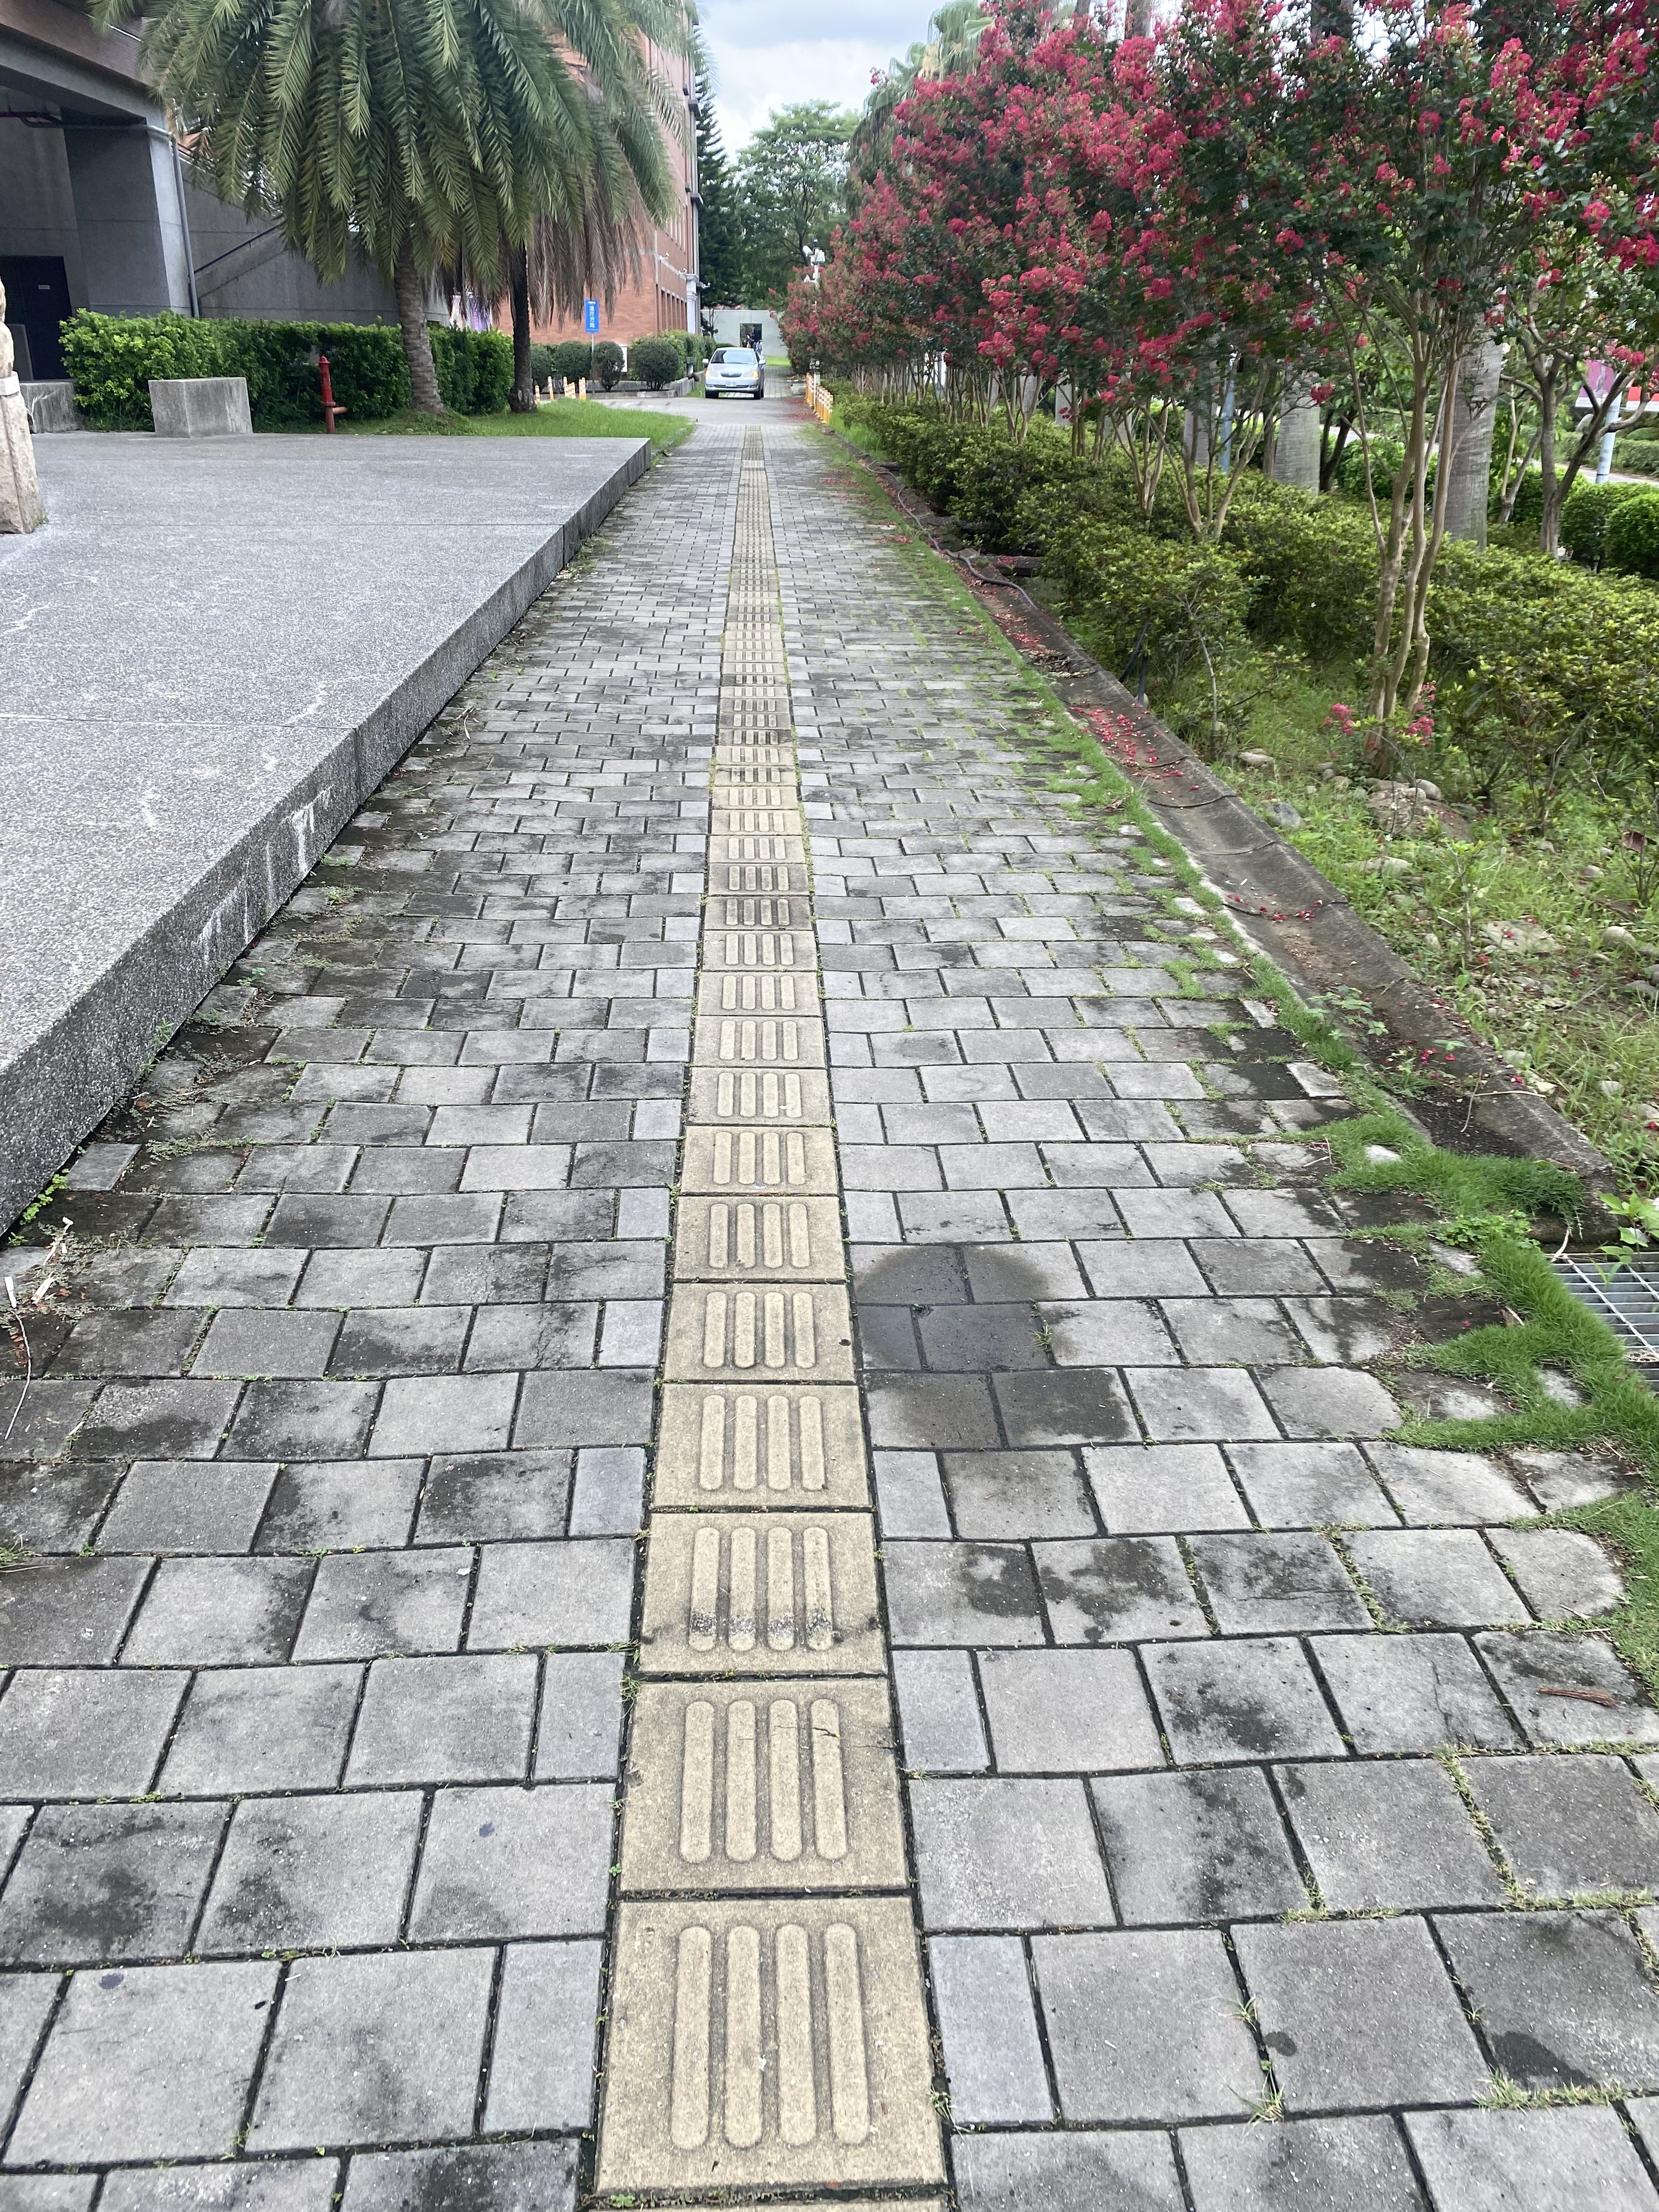0: (7, 611, 1659, 2212)
sidewalk: (488, 428, 1161, 1404)
